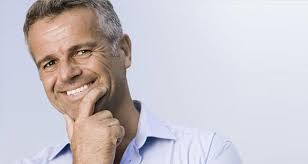white_male: (31, 12, 136, 133)
